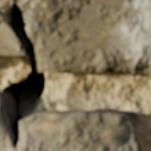broken_brick: (0, 0, 150, 78), (0, 108, 140, 150)
crack: (0, 2, 48, 148), (128, 112, 133, 117)
